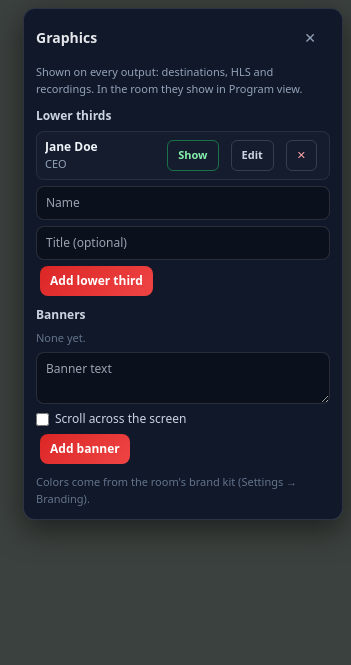
Test: GraphicsPanel › adopts the server state on a conflict and says so
Click the button "Show": (193, 155) x1=167 y1=140 x2=218 y2=170
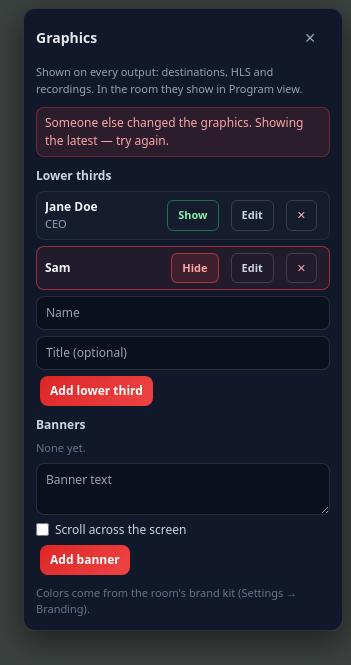
Now the text "Someone else changed the graphics" is shown, box x1=45 y1=114 x2=303 y2=149
Now the number of elements with test id "lower-third-row" is 2, box x1=36 y1=191 x2=330 y2=240; x1=36 y1=246 x2=330 y2=290
Now the element with test id "lower-third-row" shows "Hide", box x1=171 y1=252 x2=218 y2=283
